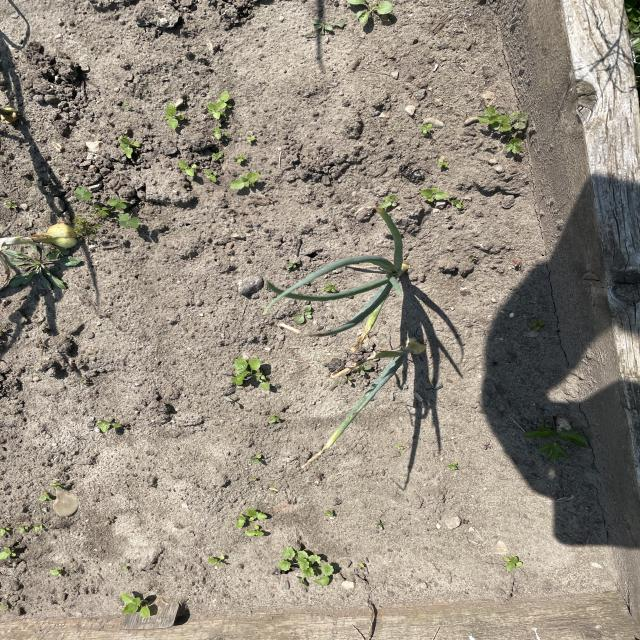Onion: (287, 237, 432, 326), (354, 332, 432, 416), (0, 216, 79, 267)
weed: (71, 182, 157, 236), (476, 104, 546, 164), (523, 416, 599, 470), (271, 541, 346, 592), (96, 576, 170, 622), (7, 245, 71, 297), (406, 181, 464, 216), (233, 356, 282, 397), (224, 165, 271, 204), (156, 106, 208, 138), (233, 508, 275, 545)
